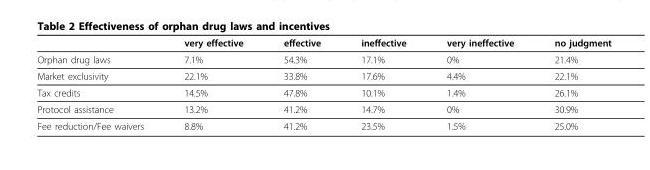table: (36, 36, 610, 131)
table column: (36, 36, 163, 131), (425, 36, 533, 131), (163, 36, 262, 131), (340, 36, 425, 131), (262, 36, 340, 131), (533, 36, 610, 131)
table column header: (36, 36, 610, 50)
table row: (36, 50, 610, 67), (36, 67, 610, 84), (36, 100, 610, 117), (36, 84, 610, 100), (36, 36, 610, 50), (36, 117, 610, 131)
